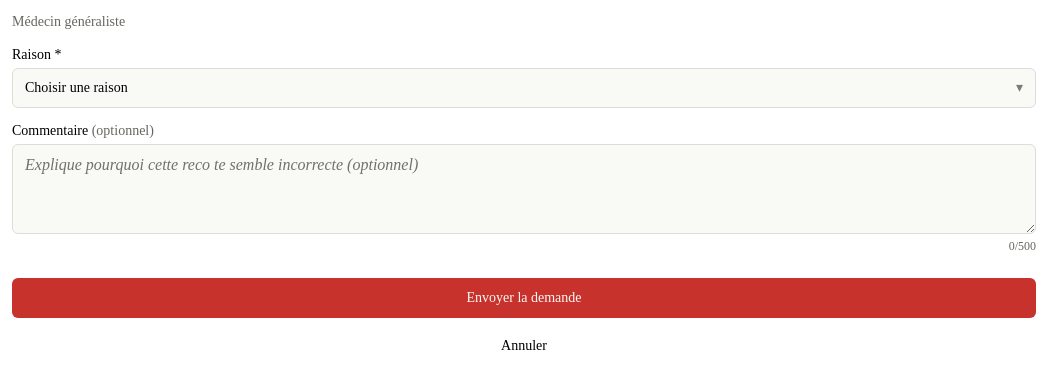
it: ReviewRequestForm › updates comment counter as user types
Replace the text in the text box with placeholder "Explique pourquoi" with "abc" at (524, 189), box [12,144,1036,234]
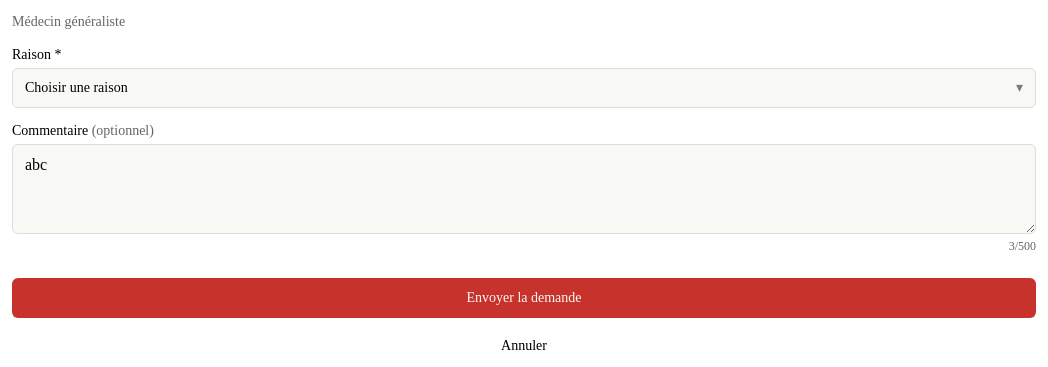
Result: the text "3/500" is shown at [1009,239,1036,253]
